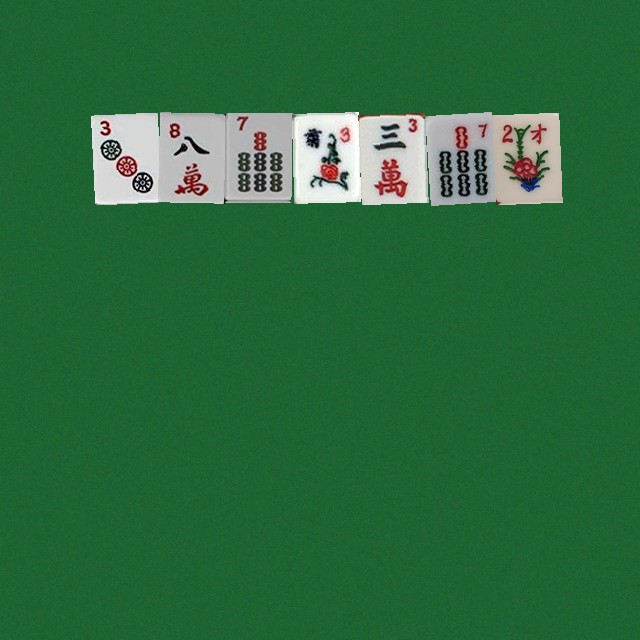tile: (90, 112, 157, 202), (157, 112, 224, 202), (224, 112, 291, 202), (291, 112, 358, 202), (358, 112, 425, 202), (425, 112, 492, 202), (492, 112, 559, 202)
